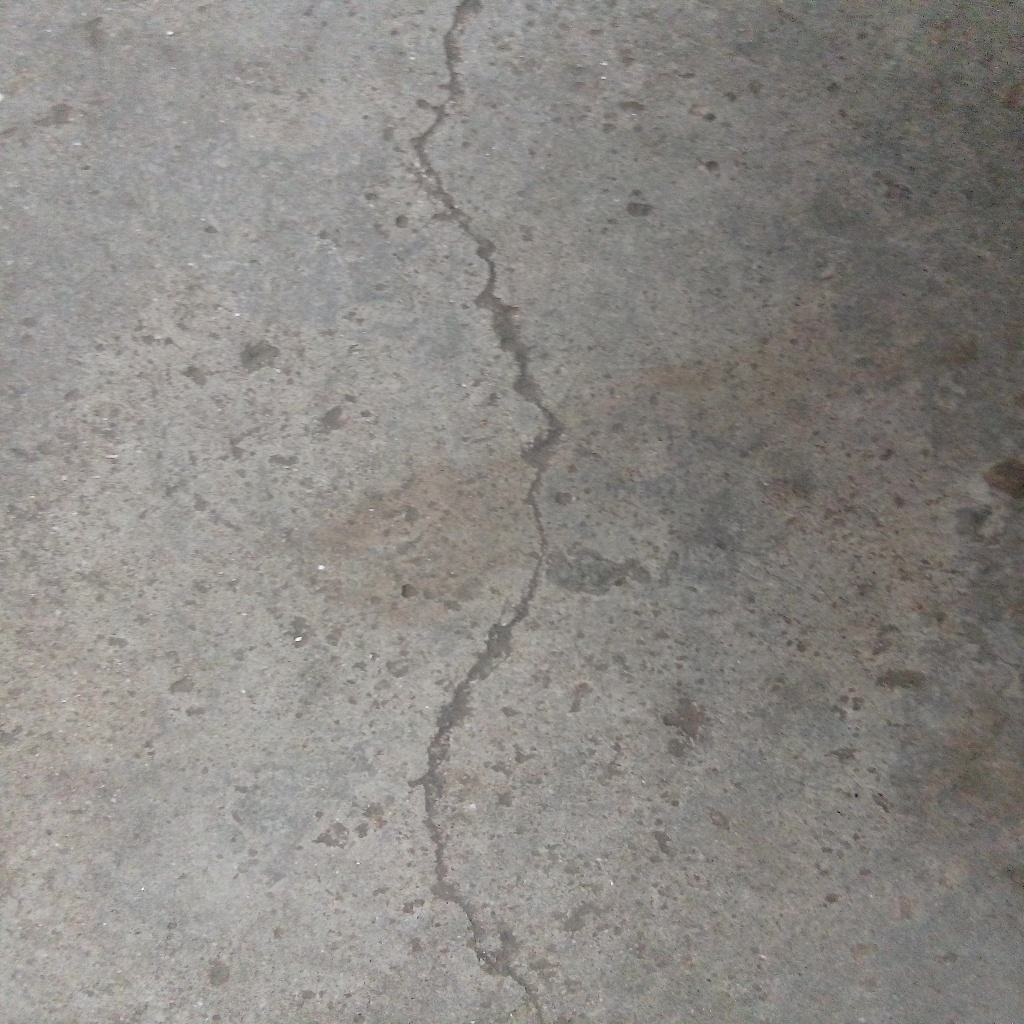Crack: (407, 1, 565, 1024)
